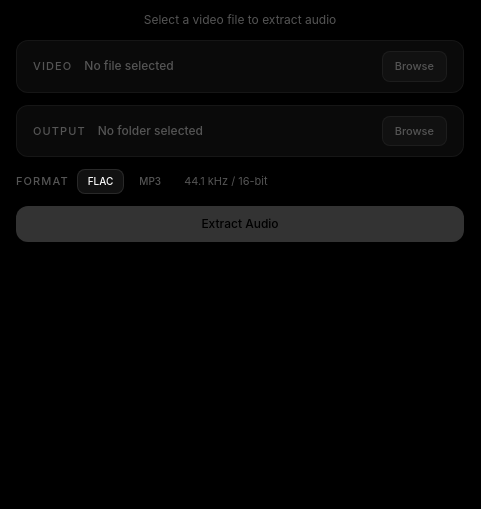
Test: VideoExtractor › probes video after file selection
Expected: the text "No file selected" is shown, [84,58,174,73]
Click the text "No file selected" at (240,66), box [16,40,464,92]
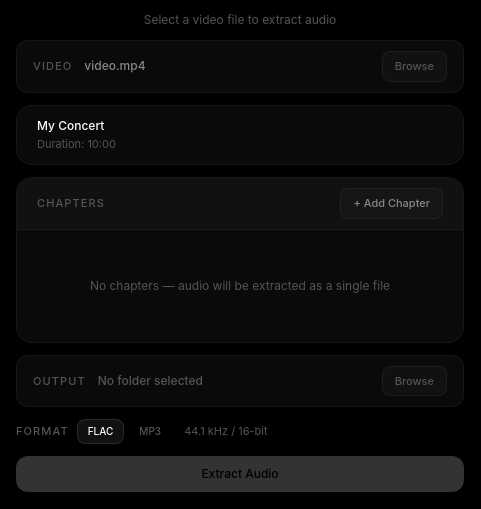
Expected: the text "My Concert" is shown, [37,118,104,132]
Expected: the text "Duration: 10:00" is shown, [37,136,116,150]
